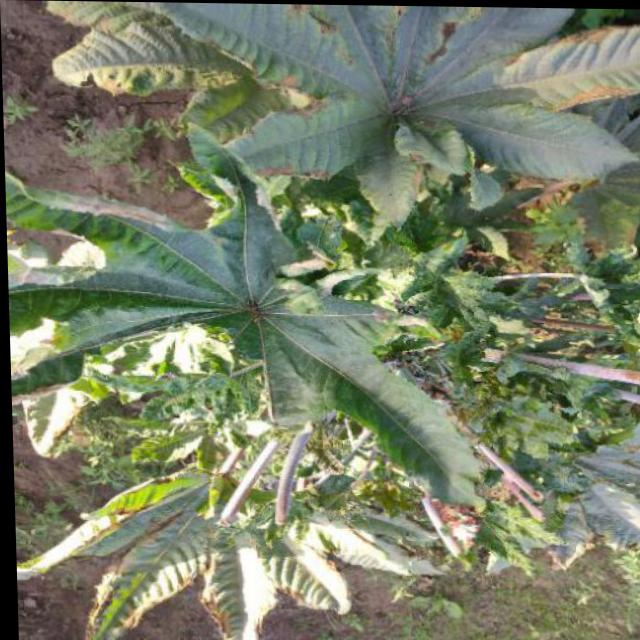weed: (9, 5, 640, 633)
